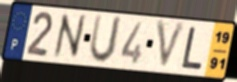2: (25, 10, 55, 60)
4: (119, 21, 144, 66)
L: (179, 26, 204, 72)
N: (51, 12, 87, 61)
U: (87, 13, 124, 66)
V: (155, 19, 188, 73)
